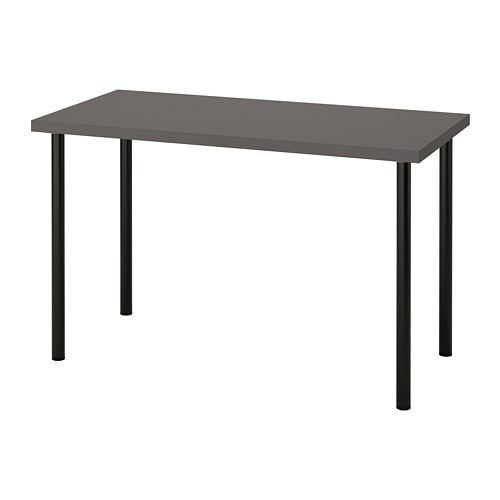obstacle: (31, 90, 469, 409)
